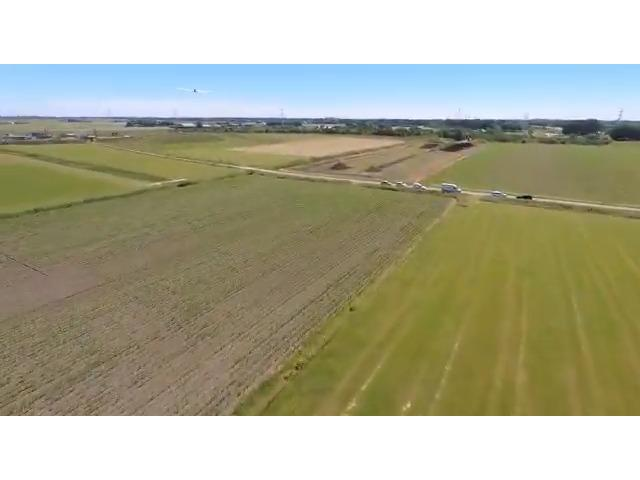Anti-Drone: (172, 80, 220, 100)
